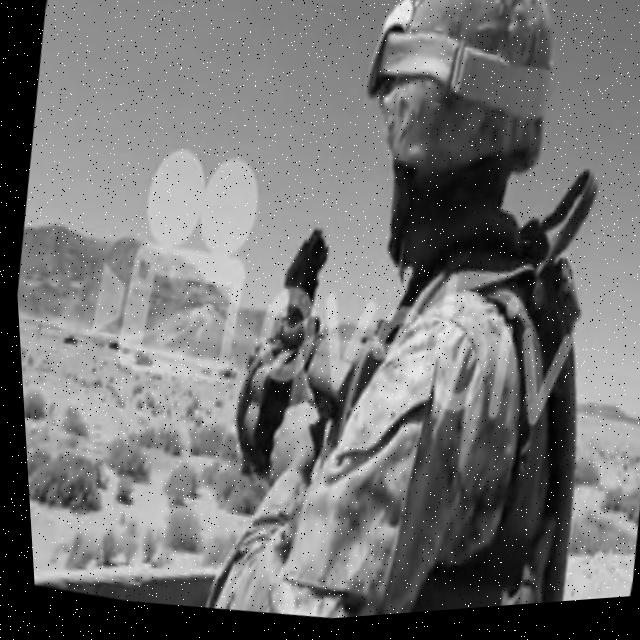rocket: (198, 214, 409, 505)
